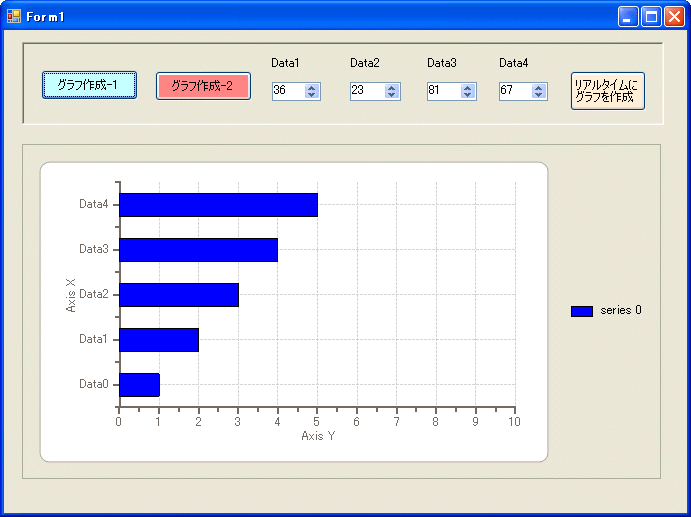canvas: (123, 175, 517, 405)
data: (20, 36, 667, 130)
legend: (567, 297, 644, 324)
x-axis: (112, 406, 523, 416)
x-labels: (113, 415, 524, 428)
x-title: (299, 430, 340, 443)
y-axis: (112, 177, 123, 414)
y-labels: (79, 191, 110, 392)
y-title: (63, 272, 78, 318)
